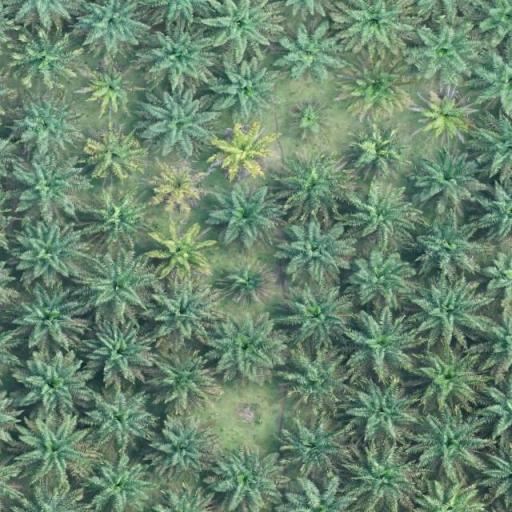Ganoderma: (88, 134, 138, 178), (219, 131, 267, 172), (424, 95, 466, 134), (157, 168, 201, 204), (90, 72, 132, 107), (160, 233, 198, 269)
